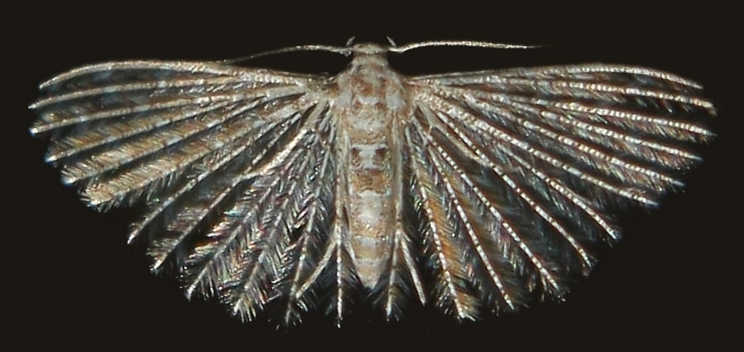Alucitidae: (25, 24, 727, 331)
moth: (27, 26, 729, 333)
